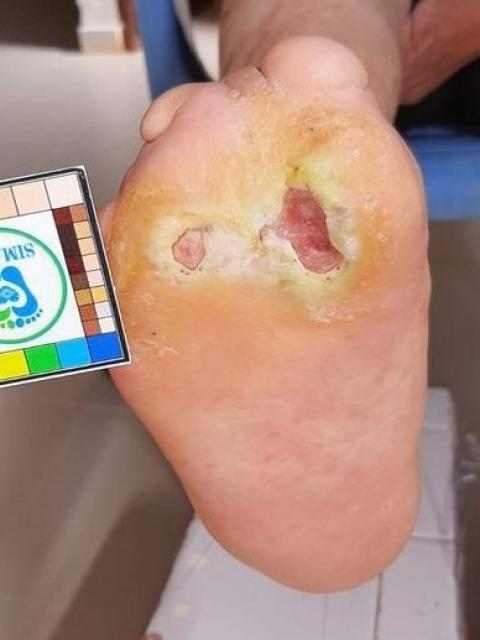wound: (259, 185, 346, 276), (169, 224, 214, 277)
